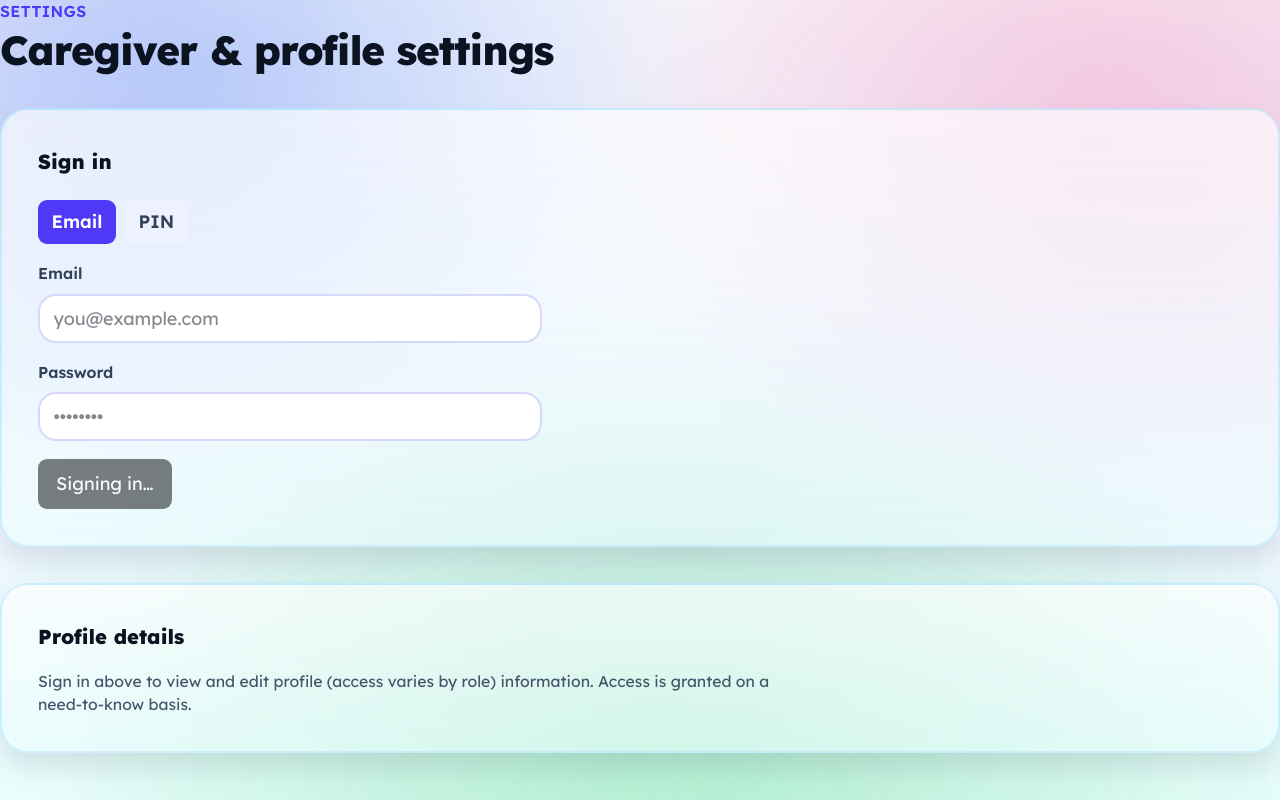
Test: successful sign-in shows signed-in state
Note: Click PIN tab (default may be email)
Click the button "PIN": (156, 222) [125,200,188,244]
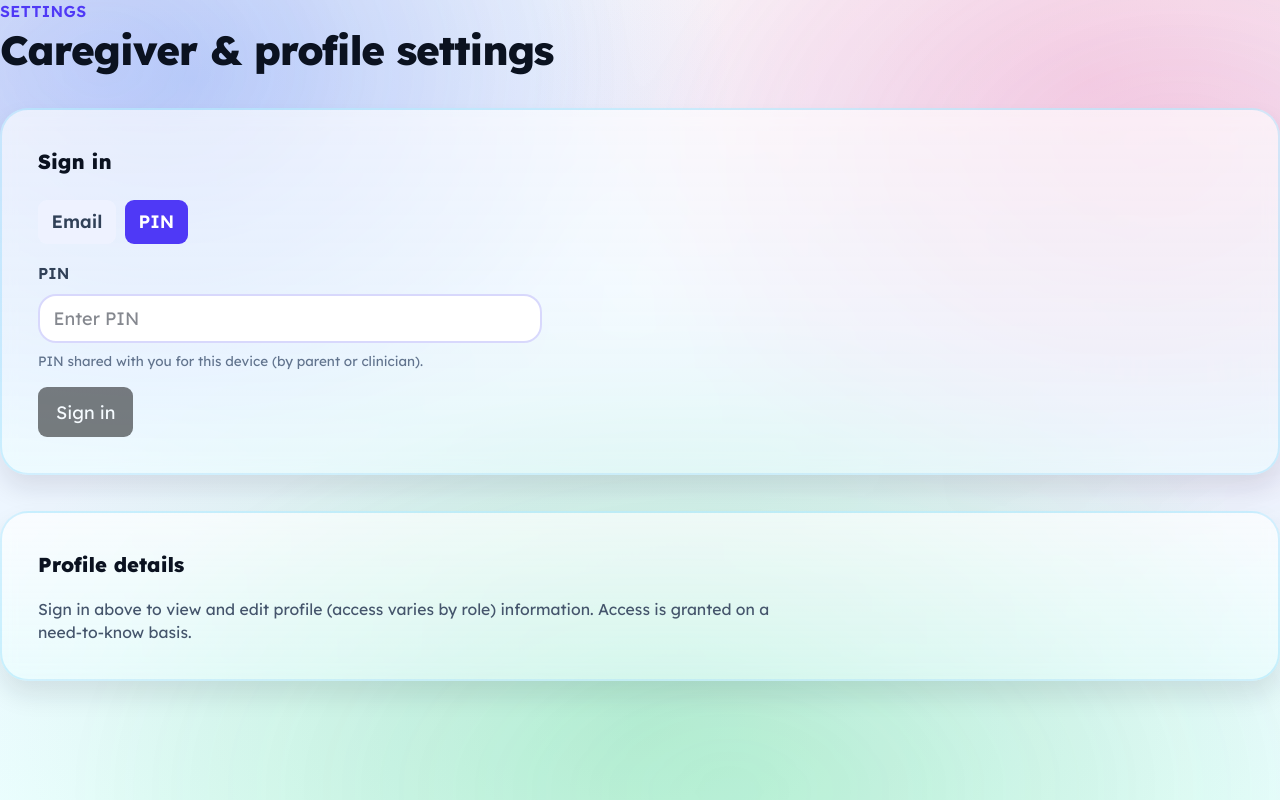
In the password field with placeholder "Enter PIN": (290, 318) [38,294,542,342], type "1234"
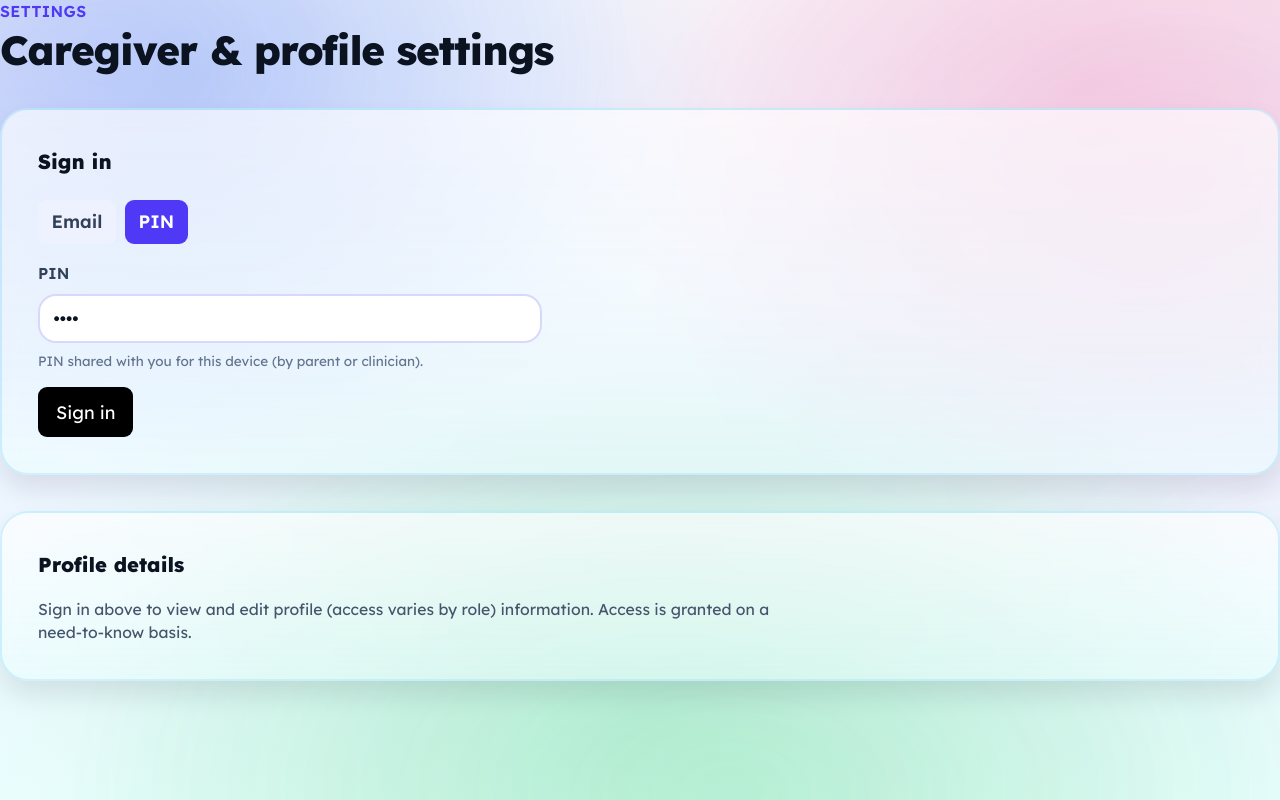
Click the button "Sign in": (86, 412) [38,388,133,437]
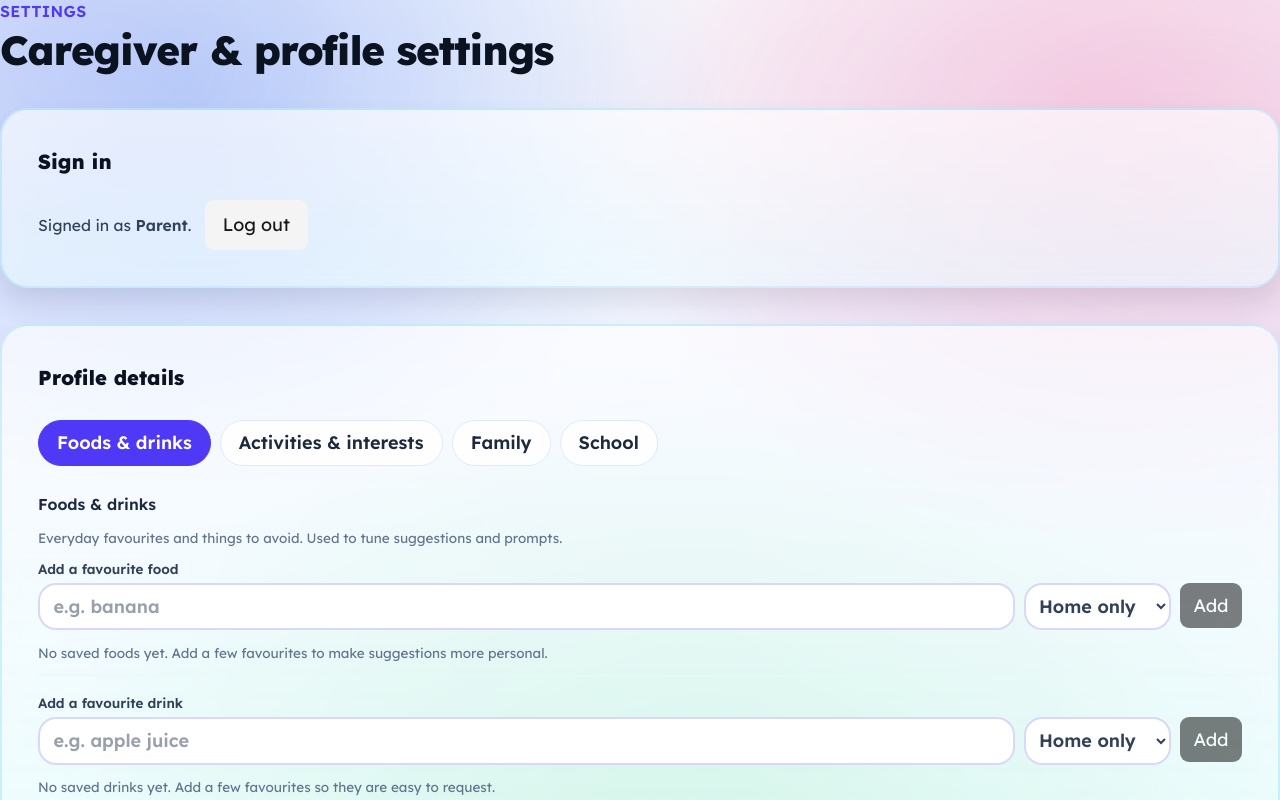
Result: the text "Signed in as Parent." is shown at [38,214,191,236]
